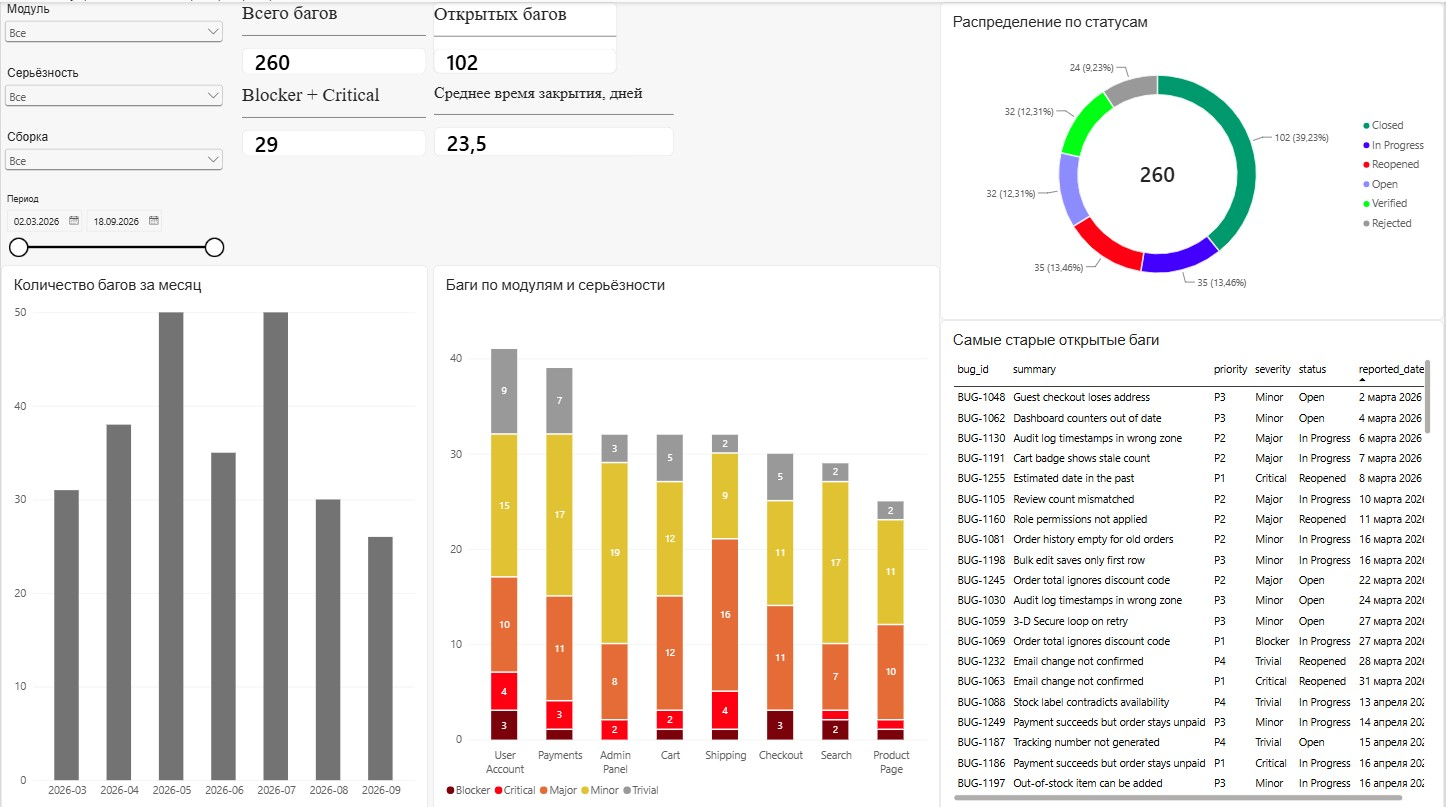

This screenshot's page, from the dashboard's own definition file:
{"tool":"powerbi","page":{"name":"Страница 1","canvas":[1920,1080],"ordinal":0},"visuals":[{"type":"columnChart","title":"Баги по модулям и серьёзности","fields":{"Category":["bugs.module"],"Series":["bugs.severity"],"Y":["CountNonNull(bugs.bug_id)"]},"box":[574.6,349.8,674.3,730.2],"z":0},{"type":"columnChart","title":"Количество багов за месяц","fields":{"Category":["bugs.Месяц"],"Y":["CountNonNull(bugs.bug_id)"]},"box":[0,349.8,567.9,730.2],"z":1000},{"type":"donutChart","title":"Распределение по статусам","fields":{"Category":["bugs.status"],"Y":["CountNonNull(bugs.bug_id)"]},"box":[1248.9,0,670.3,423],"z":2000},{"type":"tableEx","title":"Самые старые открытые баги","fields":{"Values":["bugs.bug_id","bugs.summary","bugs.priority","bugs.severity","bugs.status","bugs.reported_date"]},"box":[1248.9,423,670.3,657],"z":3000},{"type":"cardVisual","title":"Всего багов","fields":{"Data":["CountNonNull(bugs.bug_id)"]},"box":[320,0,245,95],"z":4000},{"type":"cardVisual","title":"Открытых багов","fields":{"Data":["CountNonNull(bugs.bug_id)"]},"box":[575,0,245,95],"z":5000},{"type":"cardVisual","title":"Blocker + Critical","fields":{"Data":["CountNonNull(bugs.bug_id)"]},"box":[320.7,109.4,245,95],"z":6000},{"type":"cardVisual","title":"Среднее время закрытия, дней","fields":{"Data":["Avg(bugs.days_to_close)"]},"box":[575.6,109.4,319.3,95.9],"z":6001},{"type":"slicer","title":"Модуль","fields":{"Values":["bugs.module"]},"box":[0,0,300,78],"z":6002},{"type":"slicer","fields":{"Values":["bugs.severity"]},"box":[0,85,300,78],"z":6003},{"type":"slicer","fields":{"Values":["bugs.found_in_build"]},"box":[0,170,300,78],"z":6004},{"type":"slicer","fields":{"Values":["bugs.reported_date"]},"box":[0,255,300,95],"z":6005}]}

Visuals, with their boxes in screenshot pixels (x1, y1, x2, y2), scaled from the page's 1920x1080 canvas onto the 1446x807 screenshot:
"Баги по модулям и серьёзности" columnChart: locate(433, 261, 941, 806)
"Количество багов за месяц" columnChart: locate(0, 261, 428, 806)
"Распределение по статусам" donutChart: locate(941, 0, 1445, 316)
"Самые старые открытые баги" tableEx: locate(941, 316, 1445, 806)
"Всего багов" cardVisual: locate(241, 0, 426, 71)
"Открытых багов" cardVisual: locate(433, 0, 618, 71)
"Blocker + Critical" cardVisual: locate(242, 82, 426, 153)
"Среднее время закрытия, дней" cardVisual: locate(433, 82, 674, 153)
"Модуль" slicer: locate(0, 0, 226, 58)
slicer - bugs.severity: locate(0, 64, 226, 122)
slicer - bugs.found_in_build: locate(0, 127, 226, 185)
slicer - bugs.reported_date: locate(0, 191, 226, 262)
